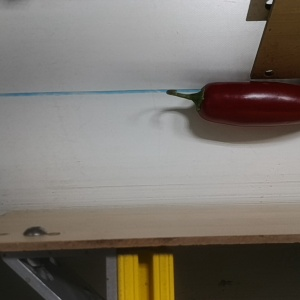Cut Point: (187, 82, 218, 121)
